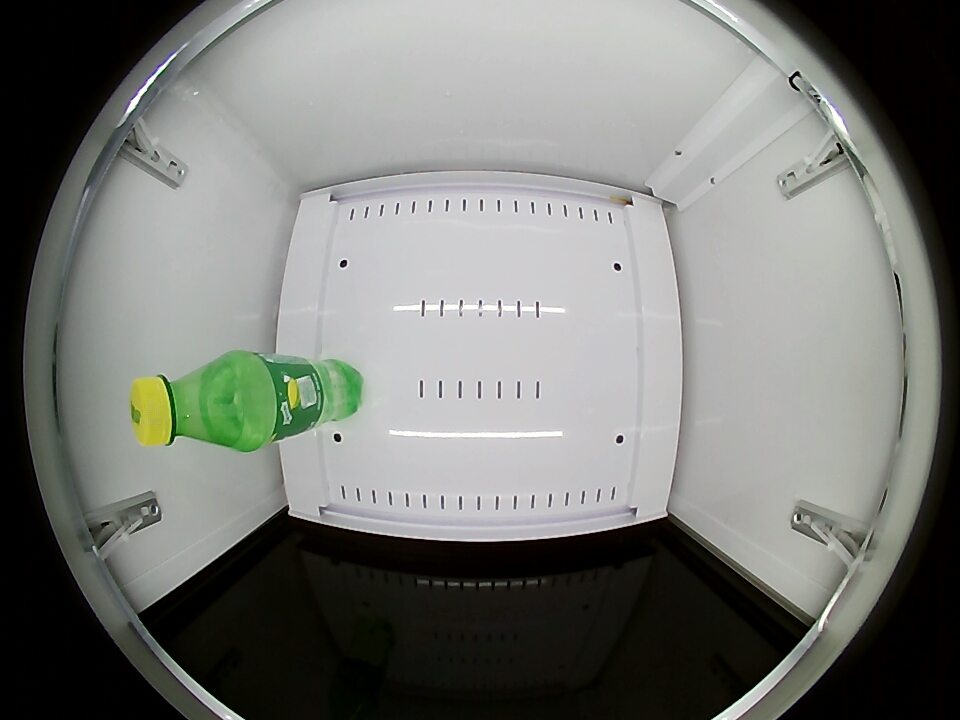xuebi-b: (130, 357, 245, 450)
